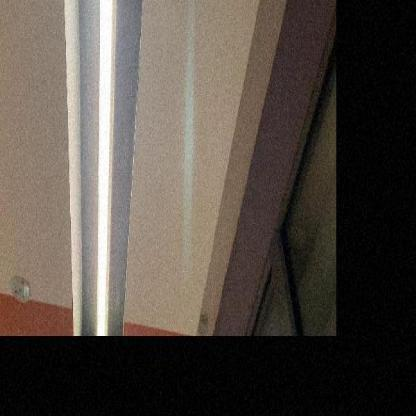light_on: (84, 0, 131, 336)
